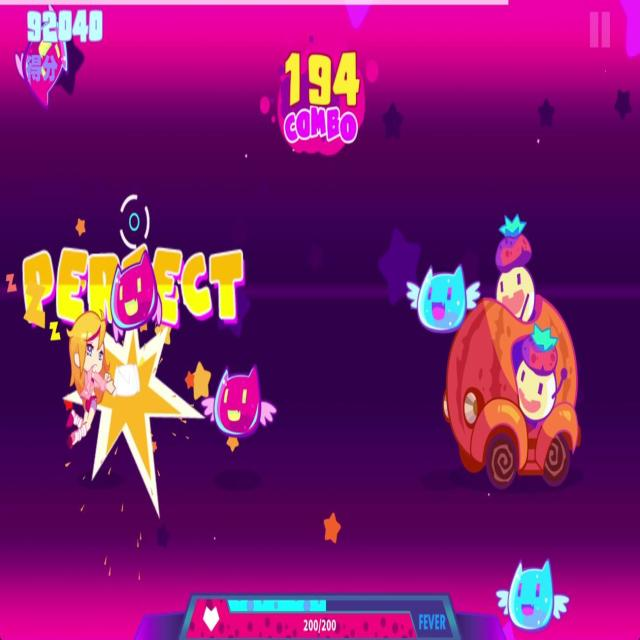cheboss: (441, 208, 586, 494)
mao: (200, 354, 279, 452), (16, 2, 72, 112), (404, 258, 482, 334), (108, 242, 164, 339)
